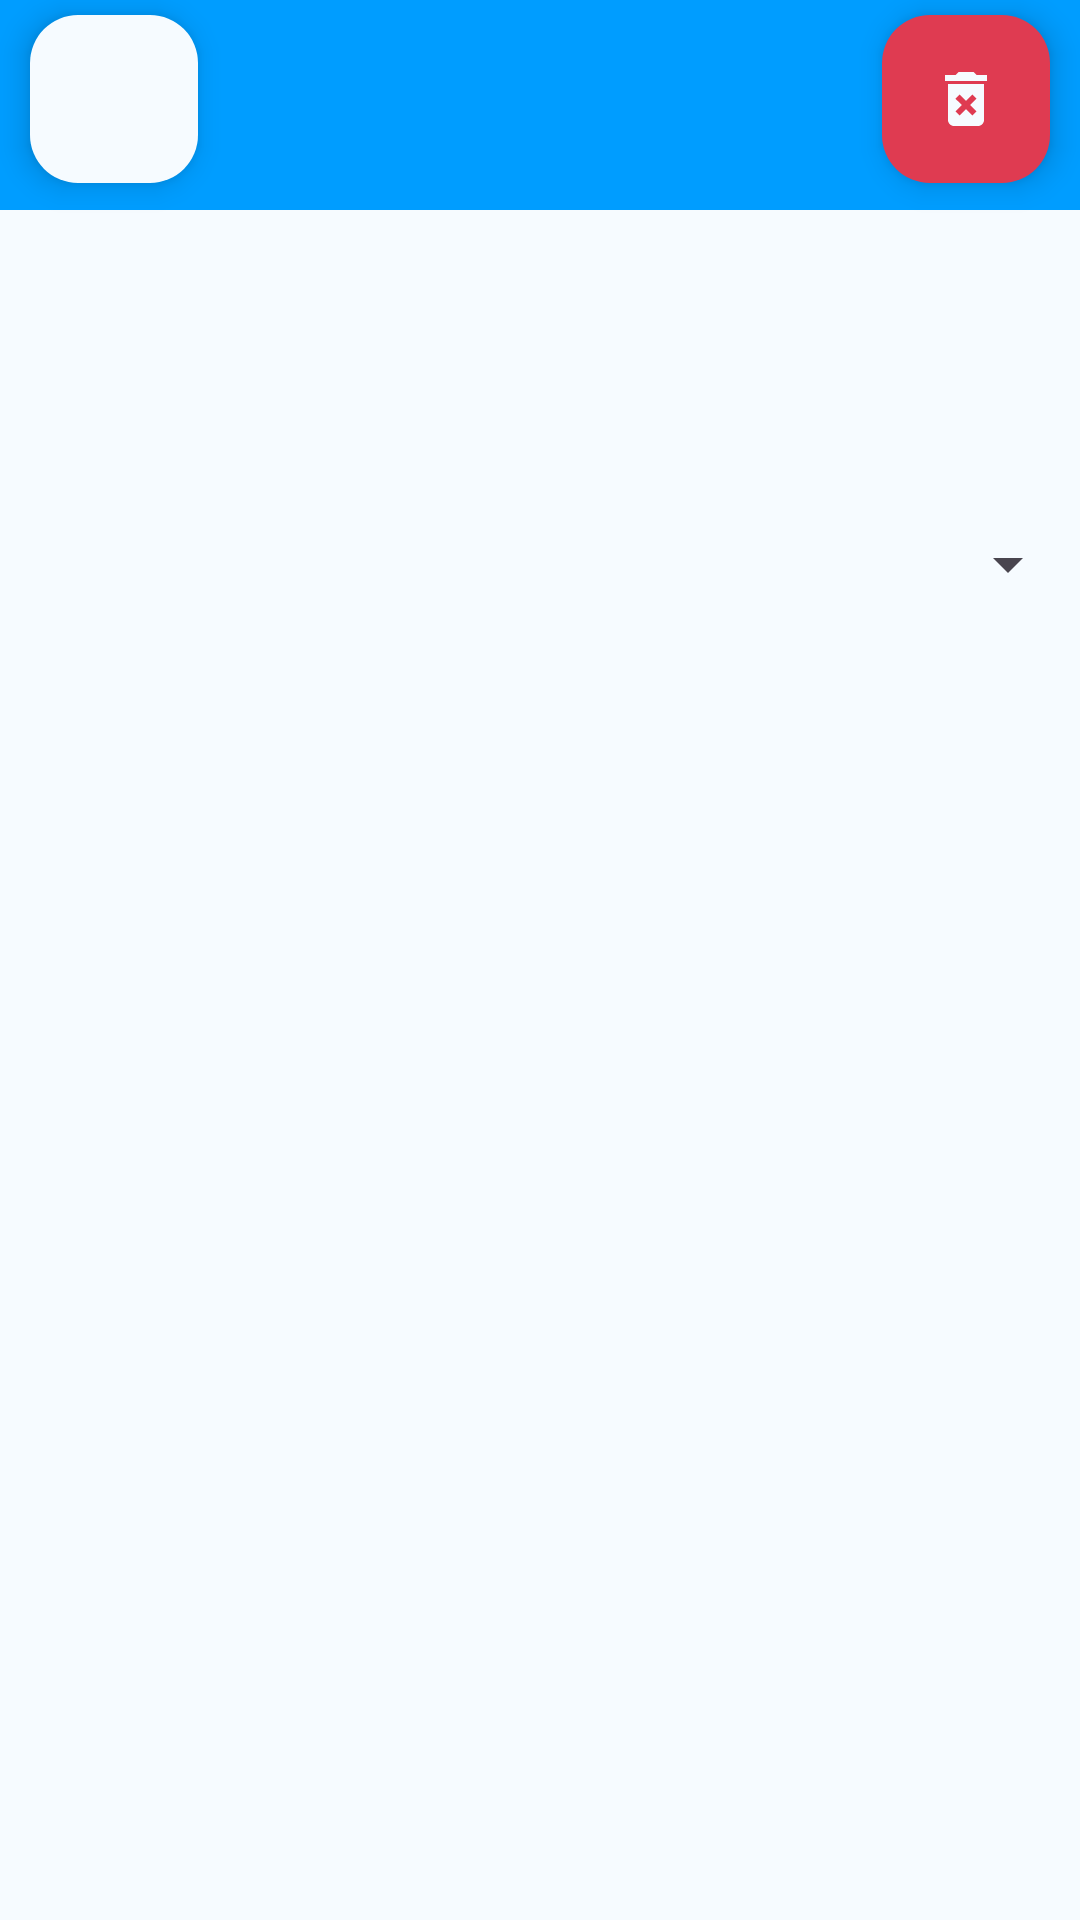

Icons on this 1080w x 1920h Android screen, each with the point to tap as [x,y]:
delete forever: [966,99]
